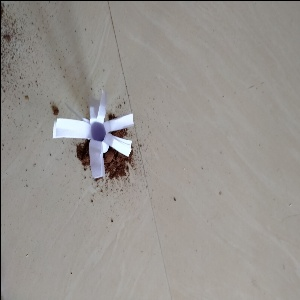weed: (55, 103, 133, 181)
